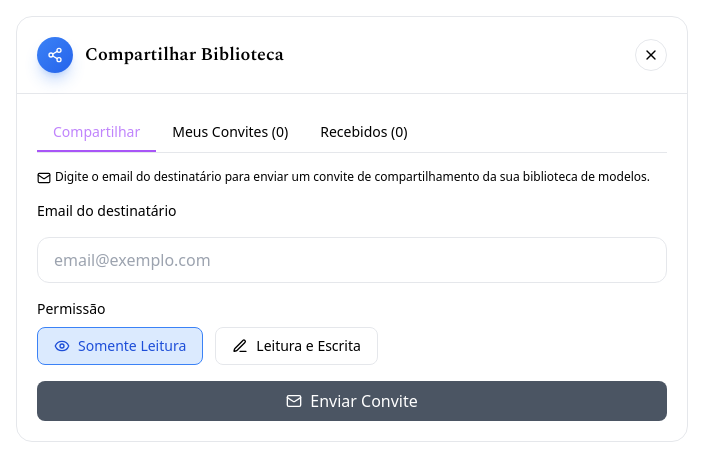
Test: ShareLibraryModal › should switch tabs when clicked
This screenshot has width=705, height=459.
Note: Click on "Meus Convites" tab
Click the button "Meus Convites (0)" at (230, 133), box [156, 114, 304, 152]
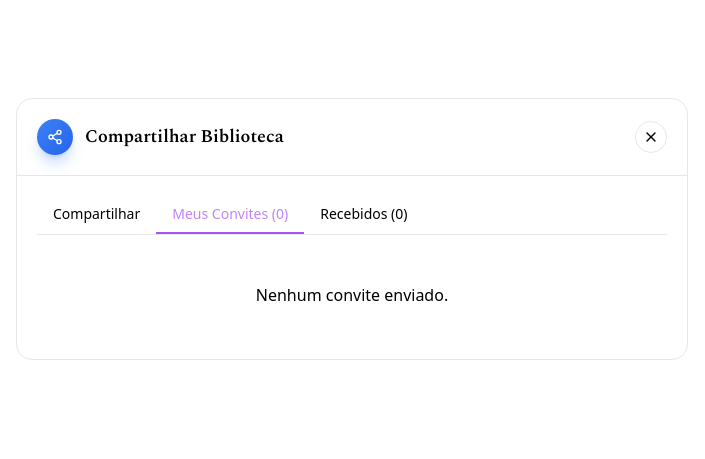
Now the text "Nenhum convite enviado." is shown, box [256, 284, 448, 306]
